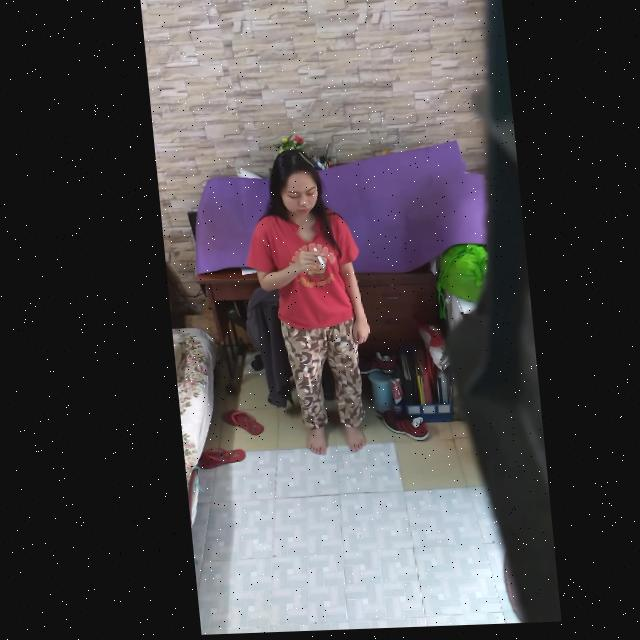cigarette: (309, 249, 320, 270)
